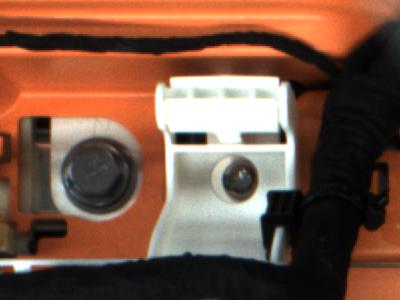nut_b: (54, 137, 131, 209)
